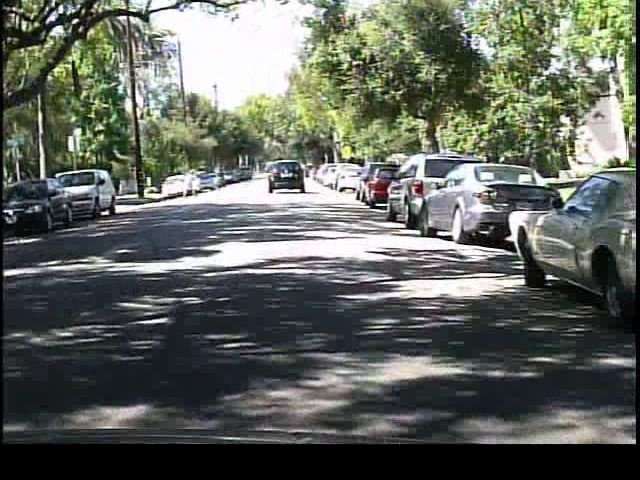person: (182, 164, 198, 201)
